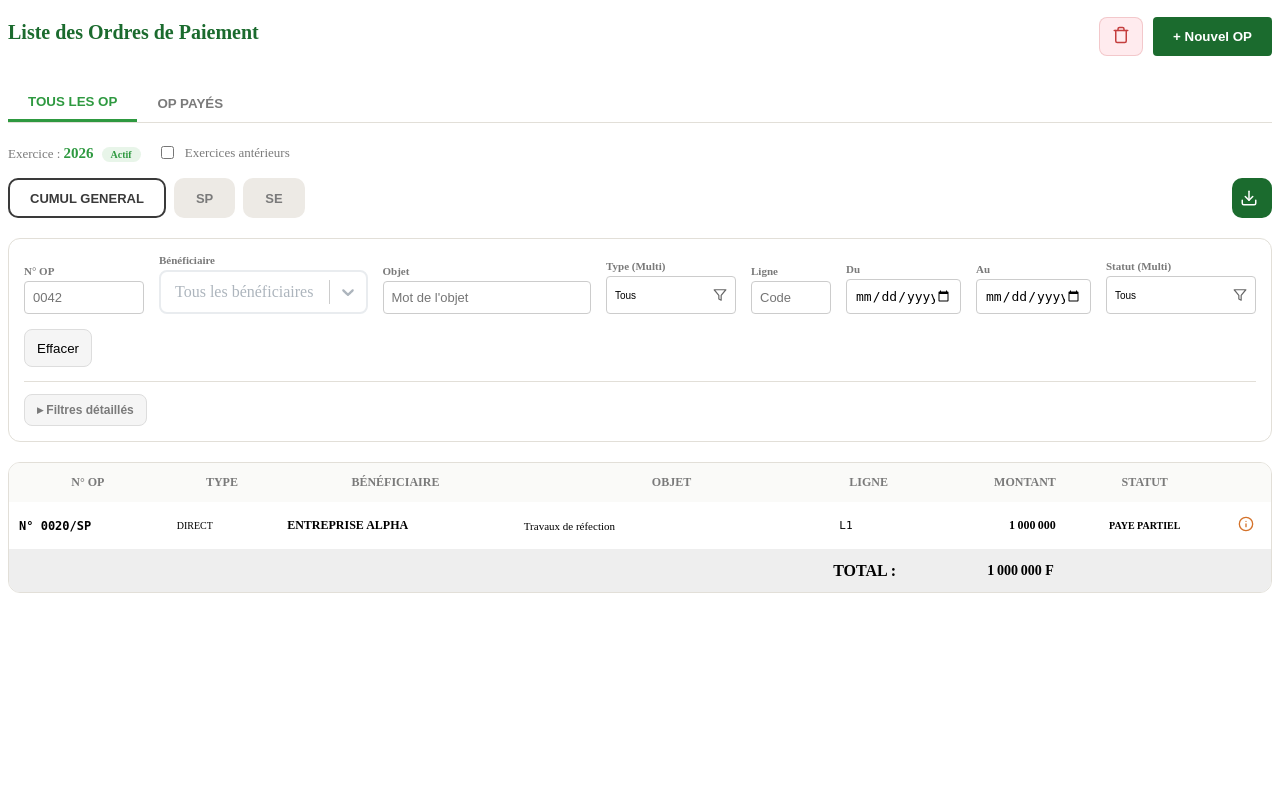
Liste OP — l'aperçu : bordereaux et règlements › un règlement sans référence le dit, plutôt que de laisser un vide
Step 1. Click the button titled "Suivi détaillé" → point(1246, 526), box [1234,512,1258,539]
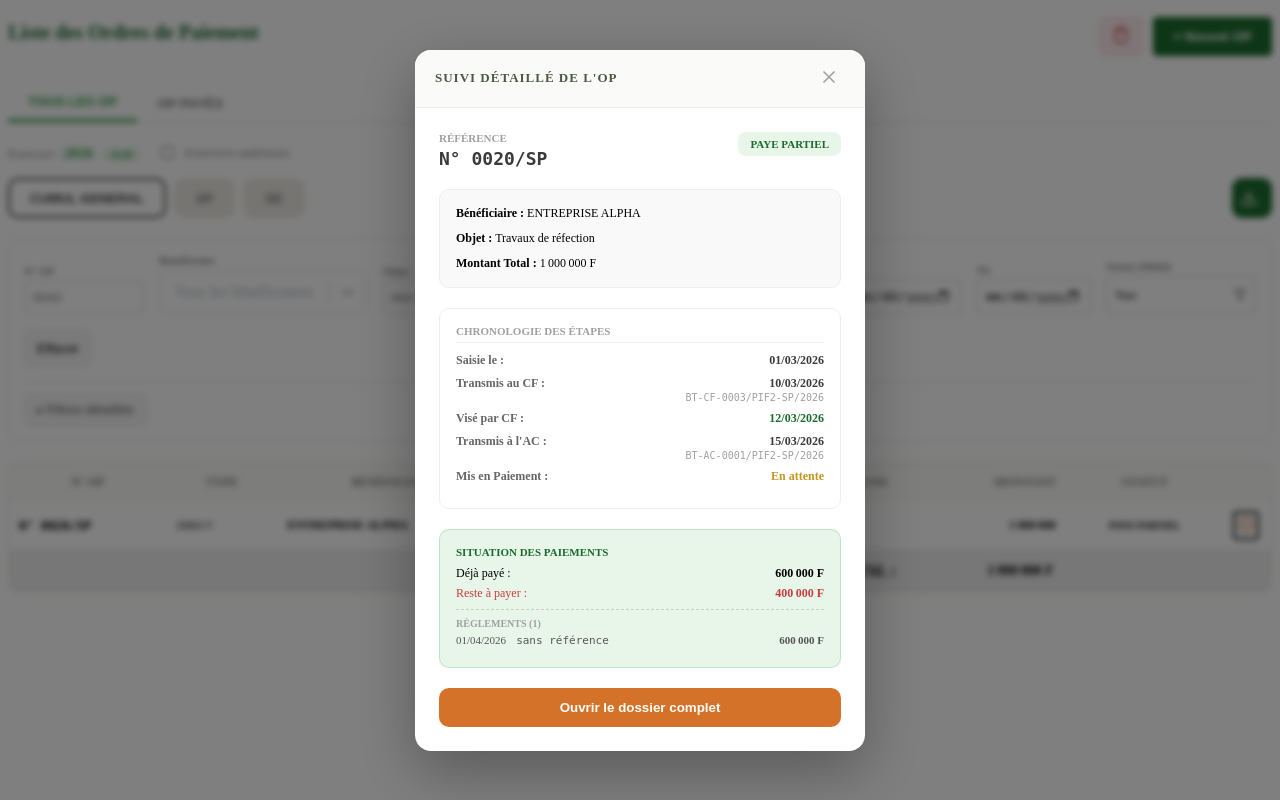
Now the text "sans référence" is shown, box [516,634,609,646]
